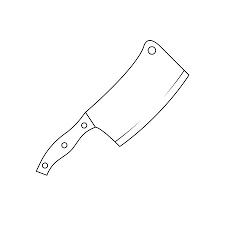Knife: (35, 38, 189, 175)
